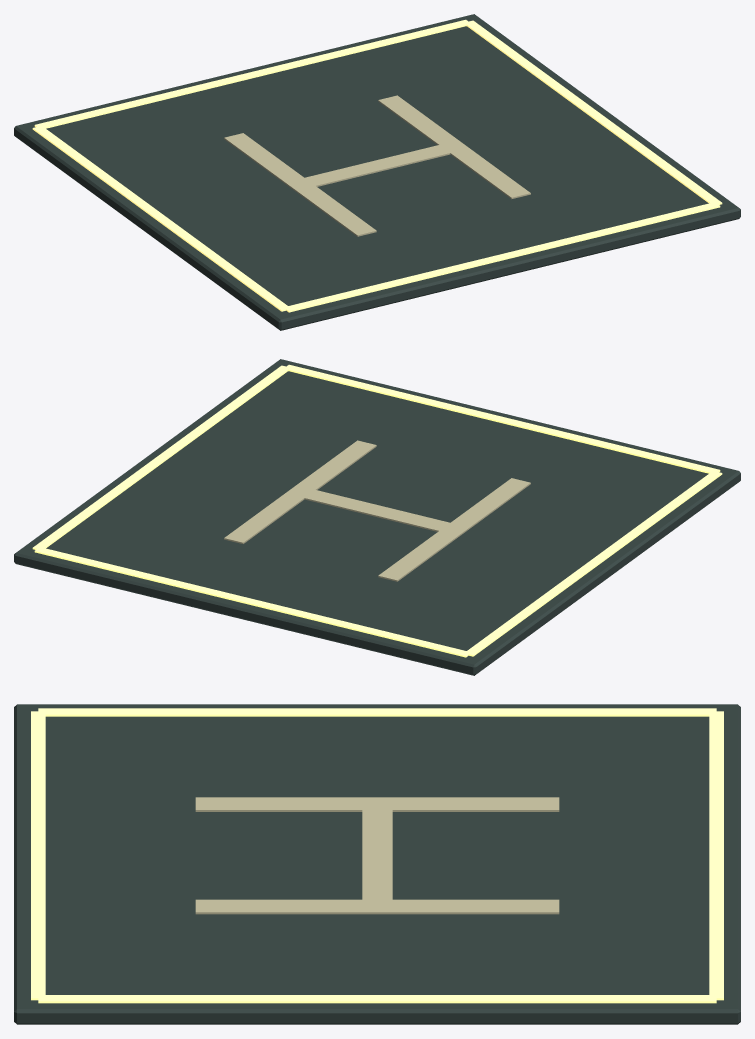
Rendered from landing_pad.glb.
The picture shows the model from 3 angles, top to bottom: view 1: azimuth 30°, elevation 25°; view 2: azimuth 150°, elevation 25°; view 3: azimuth 270°, elevation 25°; orthographic projection. The views are drawn at different scales.
Parts seen in each view (by area): view 1: landing_pad.001; view 2: landing_pad.001; view 3: landing_pad.001.
Boxes of the visible parts, x1,y1,x2,y2 form: landing_pad.001: [14, 14, 740, 330]; landing_pad.001: [14, 359, 740, 675]; landing_pad.001: [14, 704, 740, 1024].
Bounding box in the file's own units: 6 × 0.158 × 6.
